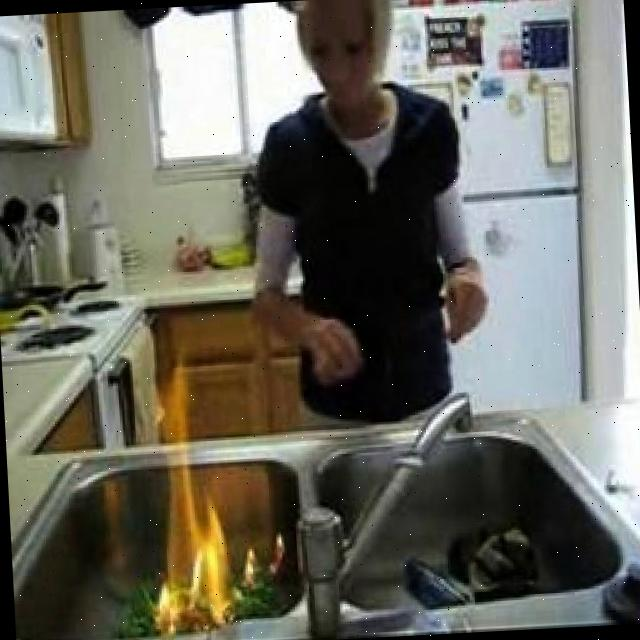fire: (156, 394, 278, 622)
